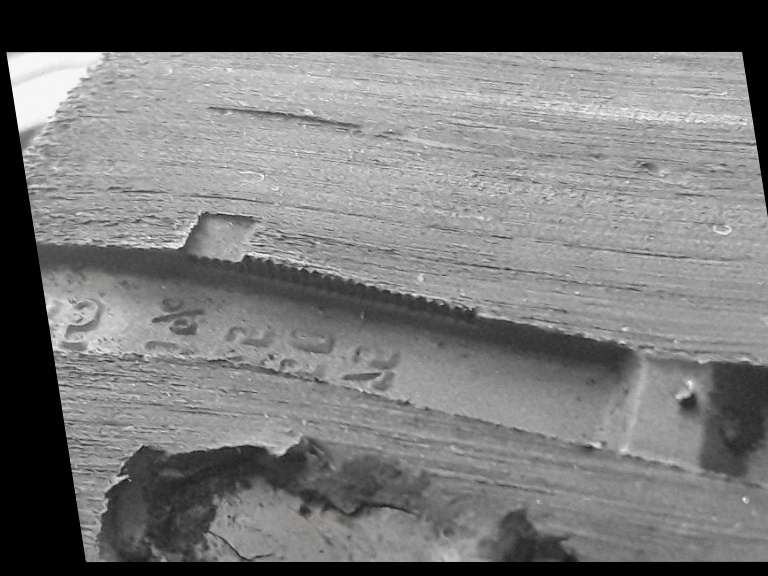temoin:0: (159, 196, 288, 304)
